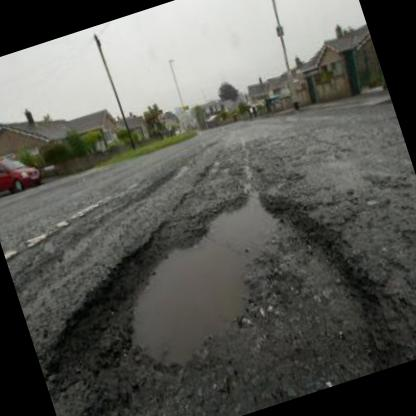pothole: (6, 155, 402, 416)
